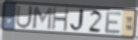2: (87, 10, 104, 34)
E: (104, 11, 123, 34)
H: (51, 7, 69, 33)
J: (69, 8, 87, 33)
M: (32, 5, 54, 31)
U: (15, 5, 35, 30)
